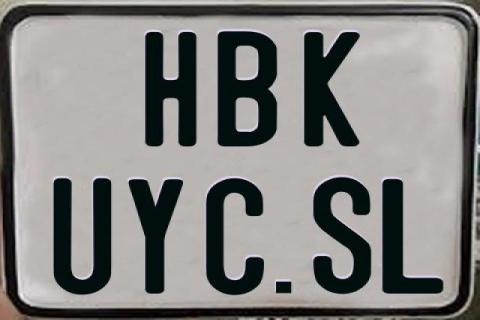B: (217, 31, 281, 147)
C: (203, 177, 263, 296)
H: (144, 29, 196, 149)
K: (302, 32, 363, 146)
L: (381, 179, 446, 295)
S: (310, 177, 368, 297)
U: (50, 178, 109, 298)
Y: (126, 179, 187, 297)
